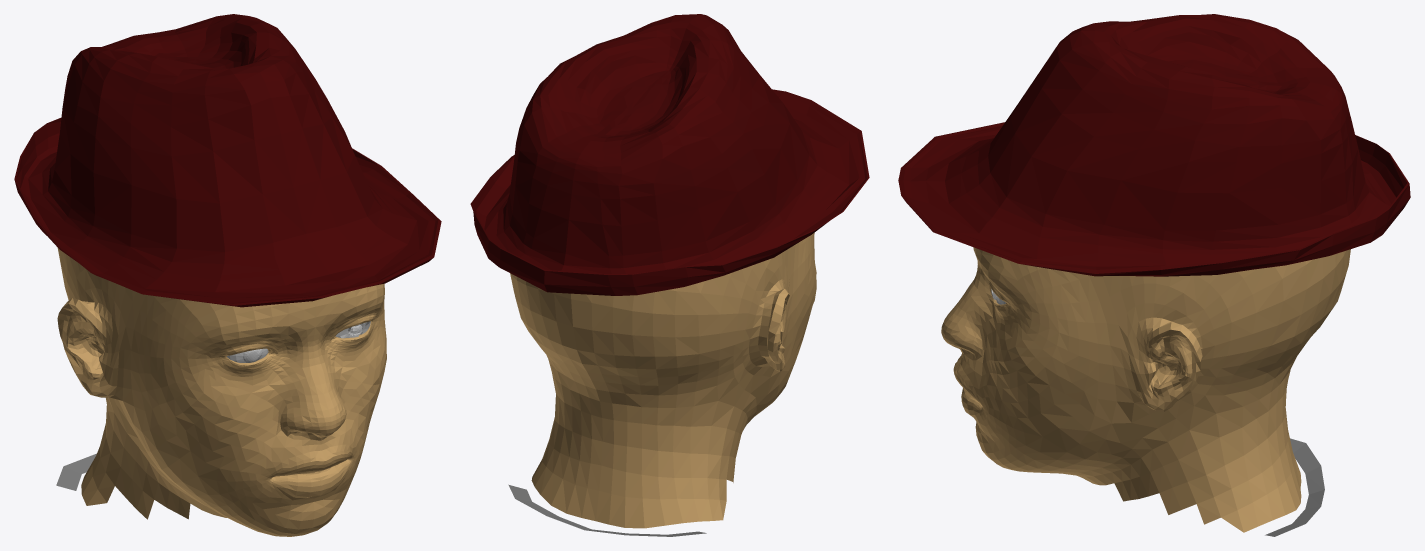
File: headPaint.dae
3 renders of one model, left to right at view 1: azimuth 30°, elevation 25°; view 2: azimuth 150°, elevation 25°; view 3: azimuth 270°, elevation 25°, orthographic. The views are drawn at different scales.
Visible parts, largest first — view 1: node; view 2: node; view 3: node.
Part boxes in pixels (x1=…): node: x1=14, y1=14, x2=441, y2=536; node: x1=470, y1=14, x2=869, y2=536; node: x1=898, y1=14, x2=1410, y2=536.
Size of the model in its own units: 0.1863 by 0.2573 by 0.2578.
